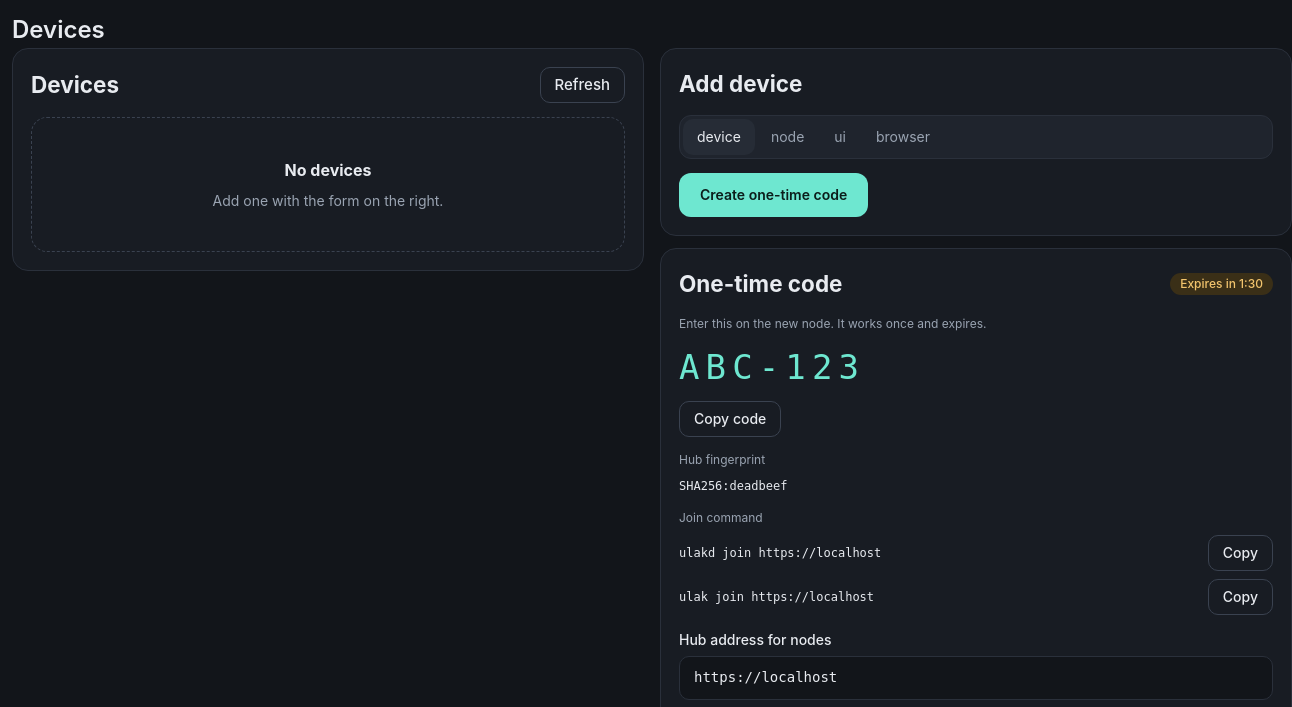
Test: Devices › shows the OTP, fingerprint and join commands per kind
expect the text named "One-time code" reads "ABC-123": met, box [679,346,865,386]
expect the text "SHA256:deadbeef" is shown: met, box [679,478,787,492]
Click the radio button labelled "browser" at (903, 137), box [862,119,944,155]
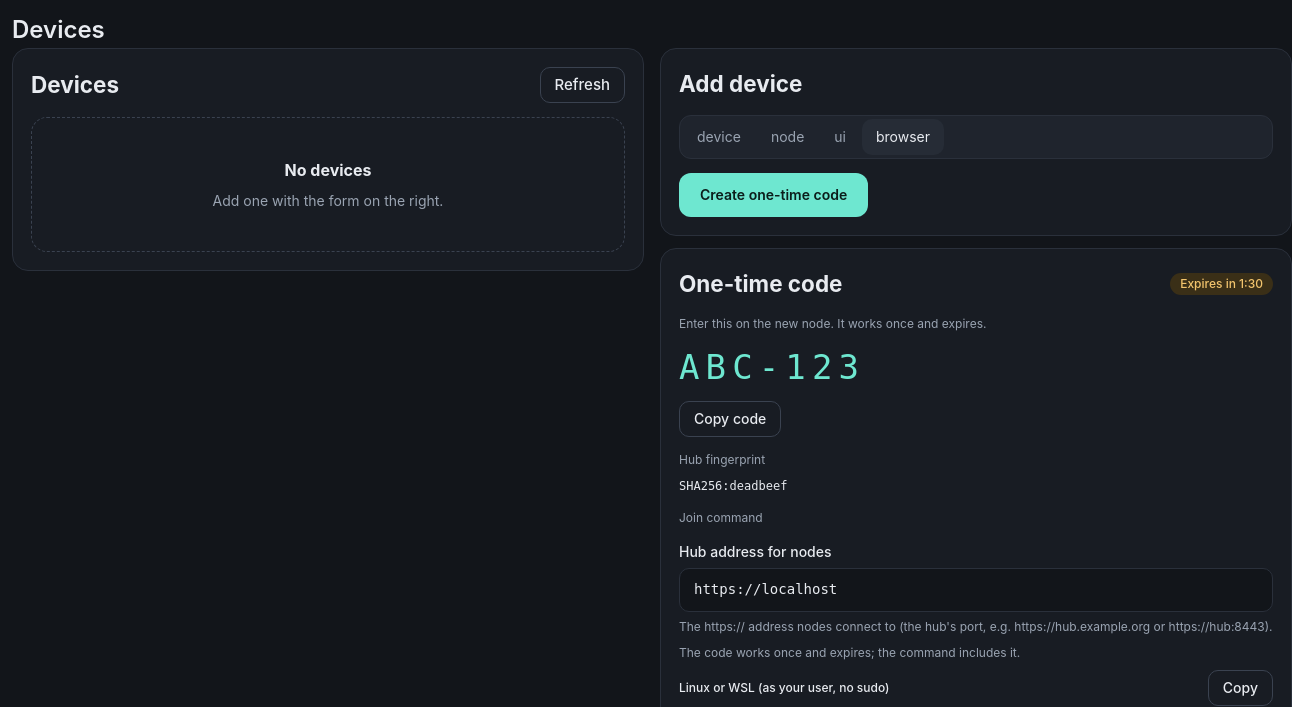
expect the text "ulakd join https://localhost" is gone: met
Click the radio button labelled "node" at (788, 137), box [757,119,818,155]
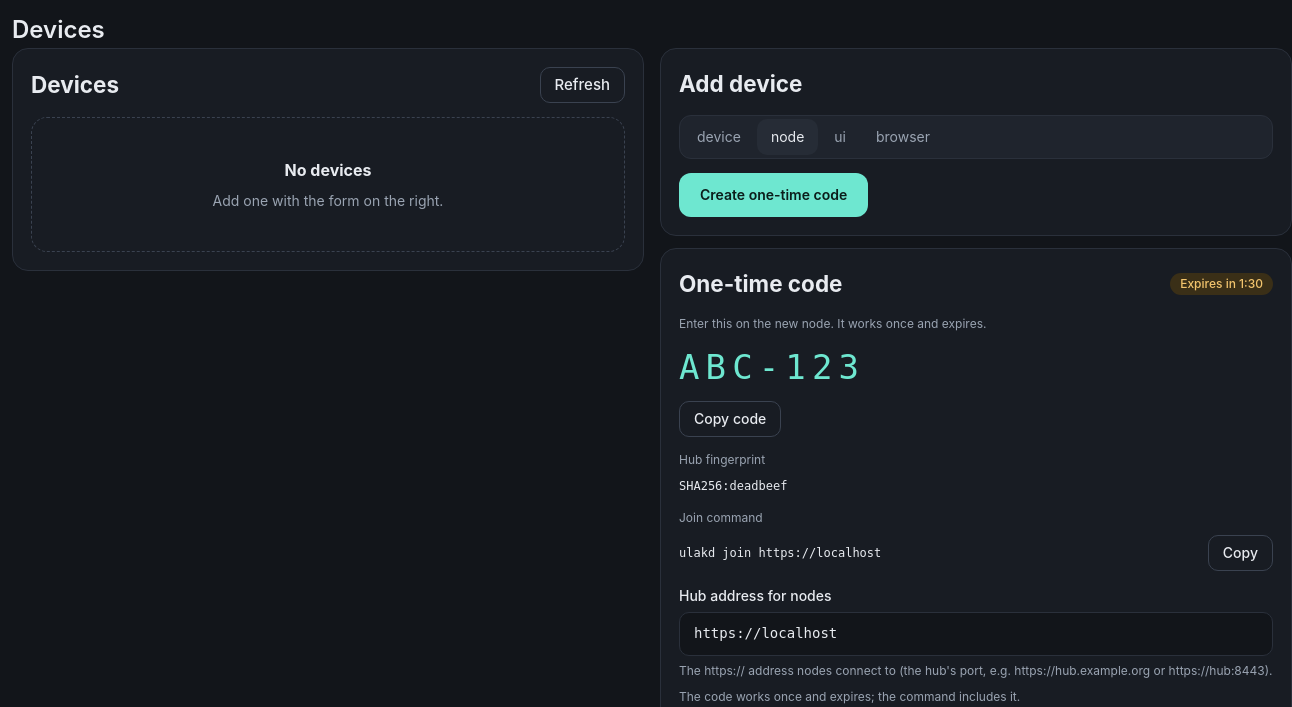
expect the text "ulak join" is not shown: met
expect the text "ulakd join https://localhost" is shown: met, box [679,546,881,560]
